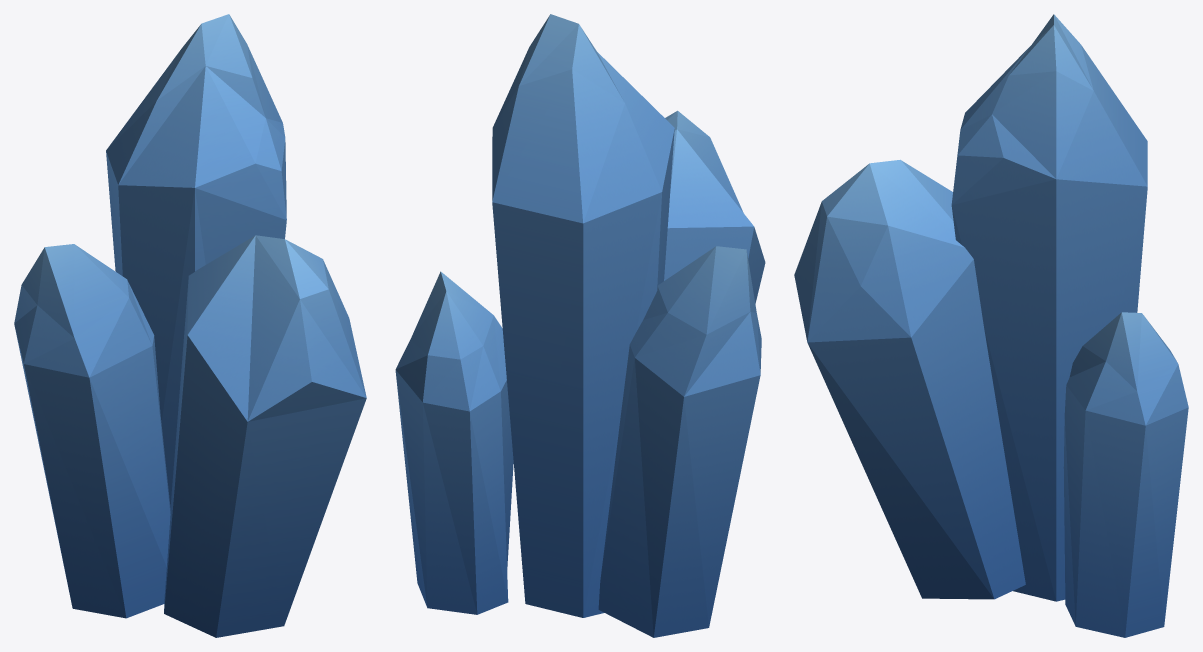
Rendered from crystals_04.fbx.
3 renders of one model, left to right at view 1: azimuth 30°, elevation 25°; view 2: azimuth 150°, elevation 25°; view 3: azimuth 270°, elevation 25°, orthographic. The views are drawn at different scales.
Parts seen in each view (by area): view 1: crystal_004; view 2: crystal_004; view 3: crystal_004.
Part boxes in pixels (x1,y1,x2,y2): crystal_004: (14, 14, 366, 637); crystal_004: (395, 14, 765, 637); crystal_004: (794, 14, 1188, 637).
Size of the model in its own units: 5.63 by 9.75 by 6.03.
1 material, 1 textured.
